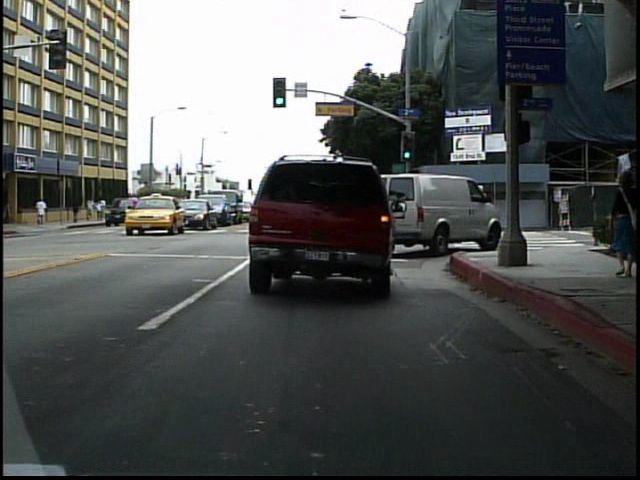person: (471, 176, 492, 234), (36, 195, 52, 229)
